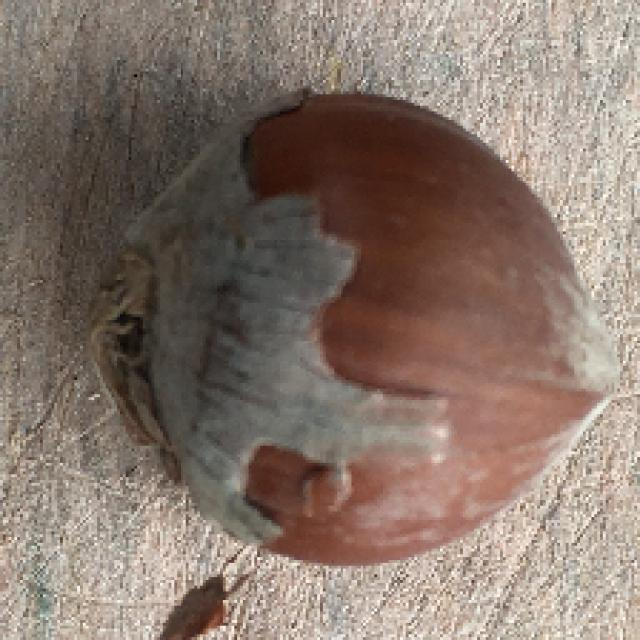damagedHazelnut: (93, 83, 631, 572)
